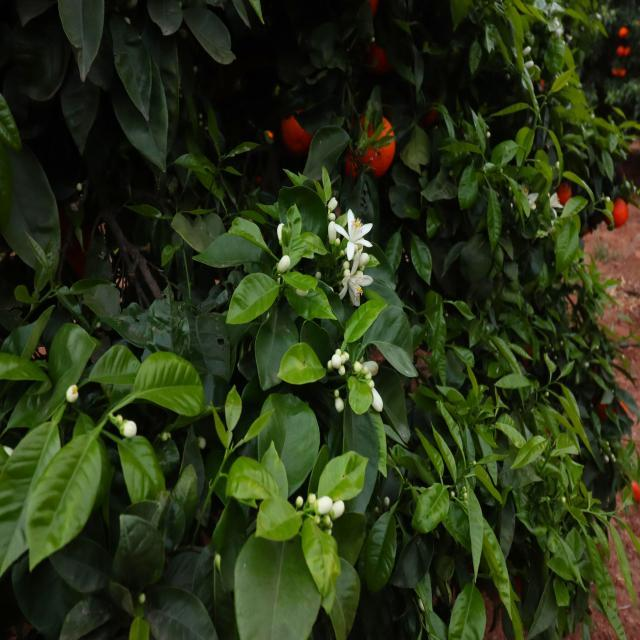Bunga: (334, 206, 374, 261), (336, 254, 374, 308), (354, 358, 378, 390), (326, 199, 339, 242), (328, 348, 347, 376), (310, 492, 332, 514), (116, 416, 137, 438), (367, 388, 384, 412), (278, 254, 292, 278), (328, 500, 345, 519), (66, 385, 80, 405), (334, 389, 344, 412), (277, 222, 285, 244)
Jeruk Sudah Matang: (356, 116, 396, 174), (280, 112, 318, 150), (606, 195, 628, 230)
